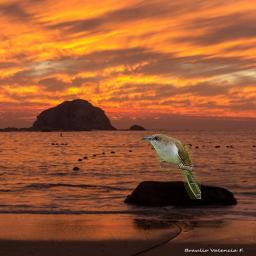Cuckoo: (140, 134, 201, 199)
